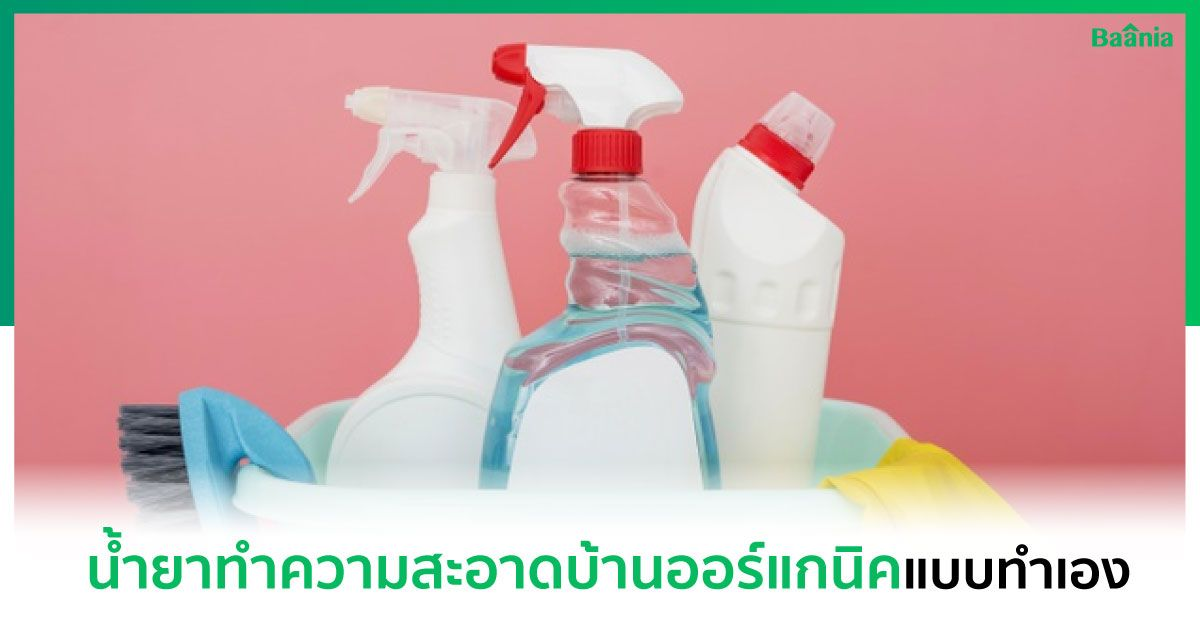Cleaning_solution: (477, 28, 730, 500), (335, 78, 545, 501), (681, 79, 859, 490)
